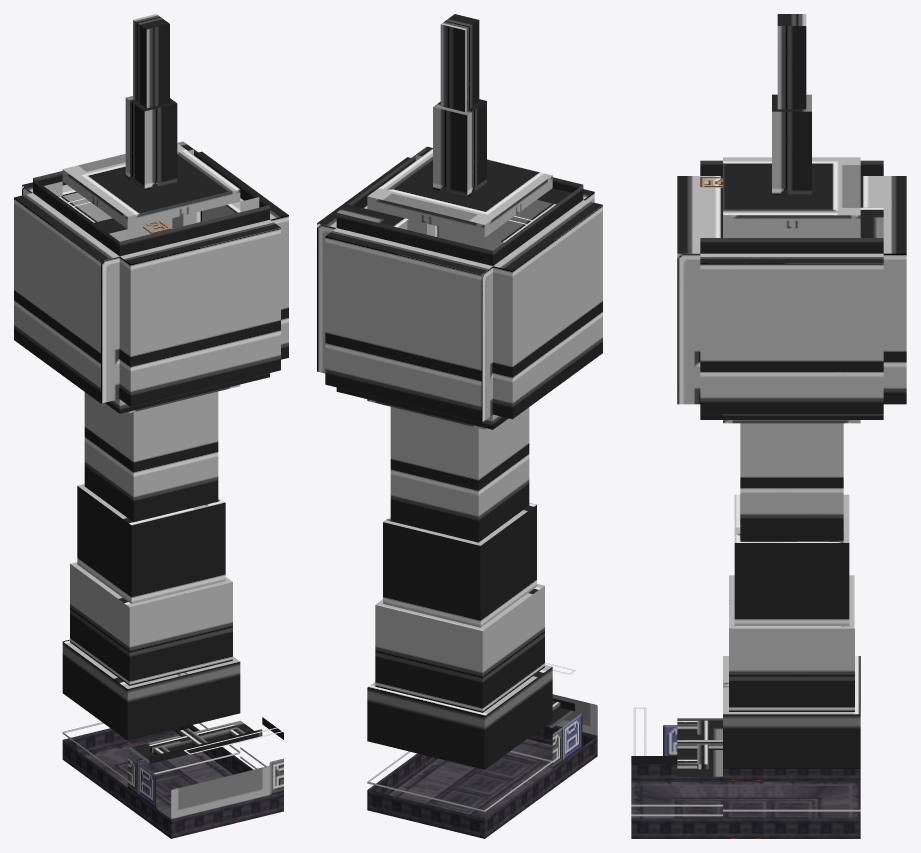
File: radio_tower.obj
3 views of the same model, side by side, from view 1: azimuth 30°, elevation 25°; view 2: azimuth 150°, elevation 25°; view 3: azimuth 270°, elevation 25° (orthographic). The views are drawn at different scales.
Visible parts, largest first — view 1: cube, base_selection, base, plane; view 2: cube, base_selection, base, plane; view 3: cube, base_selection, base, plane.
Boxes of the visible parts, x1,y1,x2,y2 form: cube: (14, 141, 288, 413); base_selection: (70, 20, 232, 685); base: (62, 642, 283, 838); plane: (63, 14, 239, 688); cube: (317, 146, 602, 429); base_selection: (375, 20, 544, 712); base: (367, 662, 597, 838); plane: (368, 14, 551, 715); cube: (677, 157, 906, 423); base_selection: (729, 26, 854, 711); base: (631, 707, 860, 838); plane: (723, 14, 860, 714).
Size of the model in its own units: 5 by 19 by 6.
